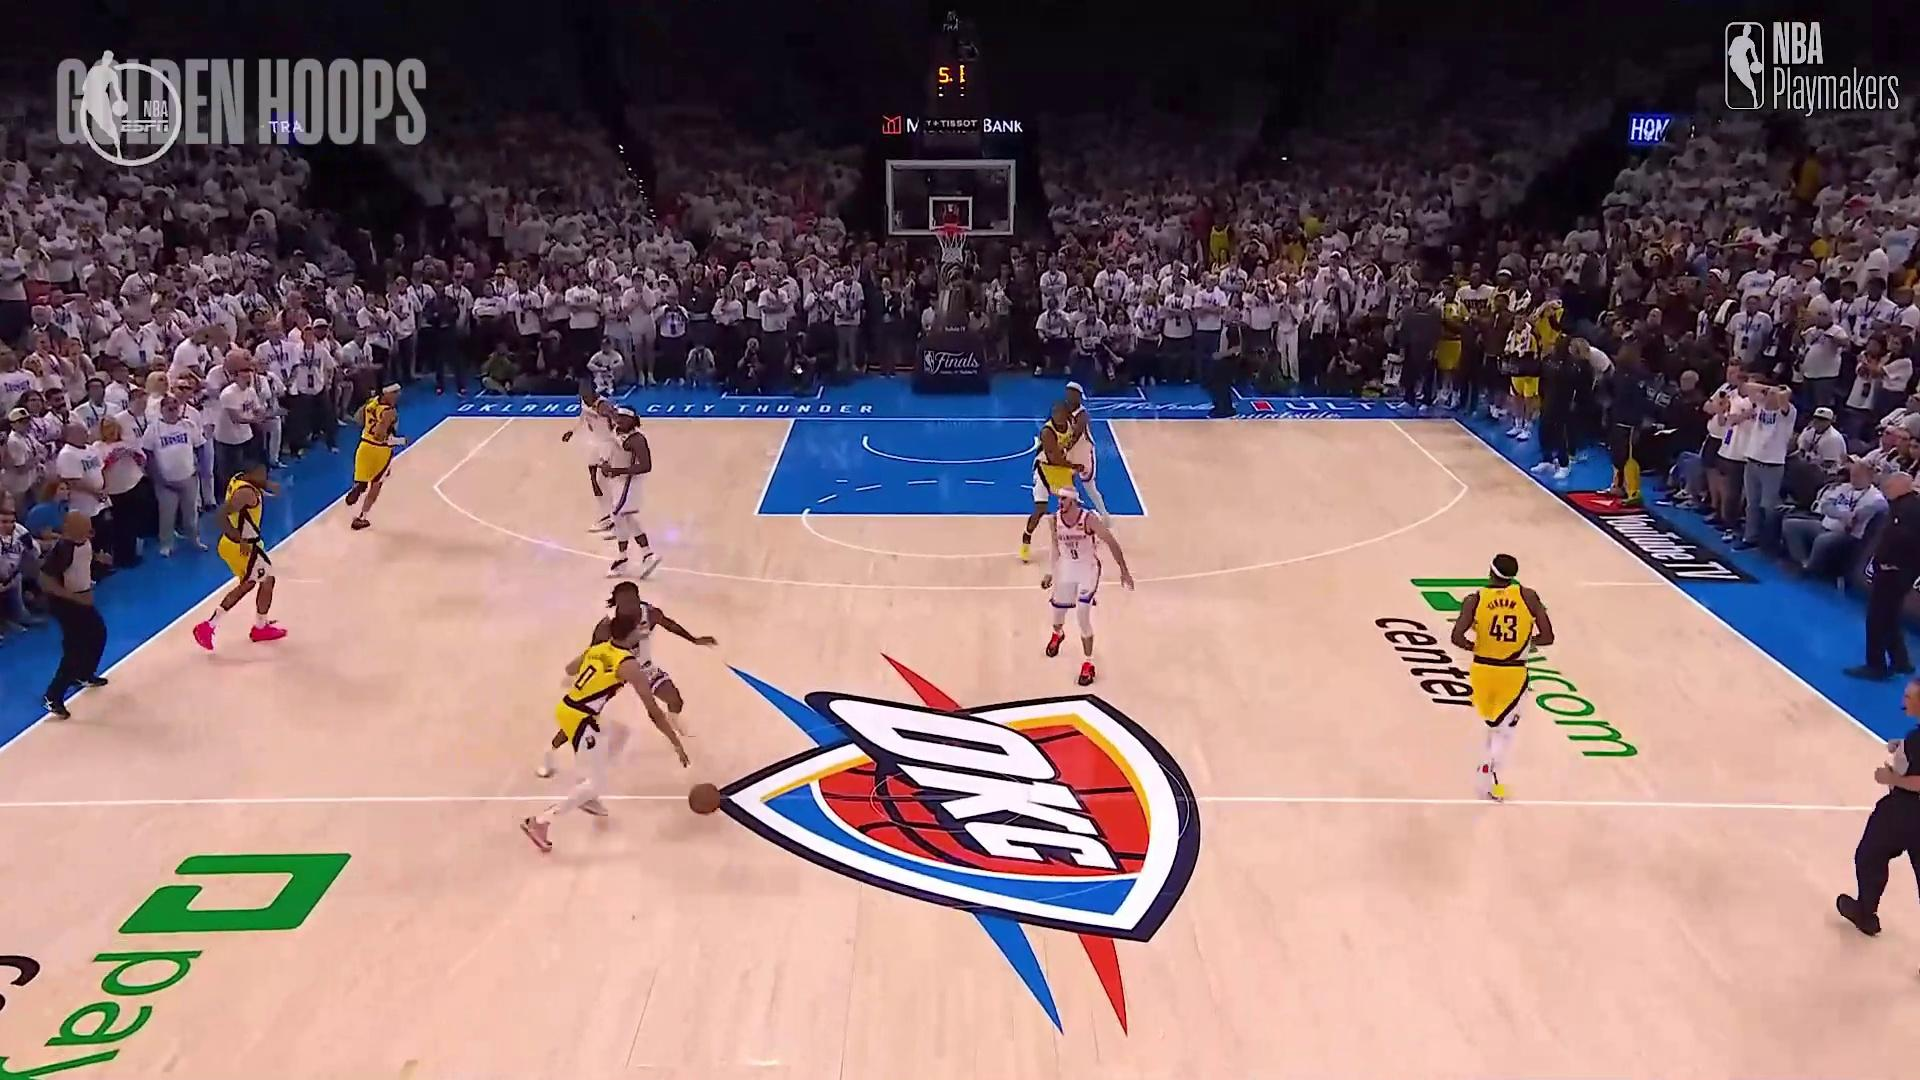ball: (680, 782, 725, 820)
hoop: (934, 219, 976, 276)
